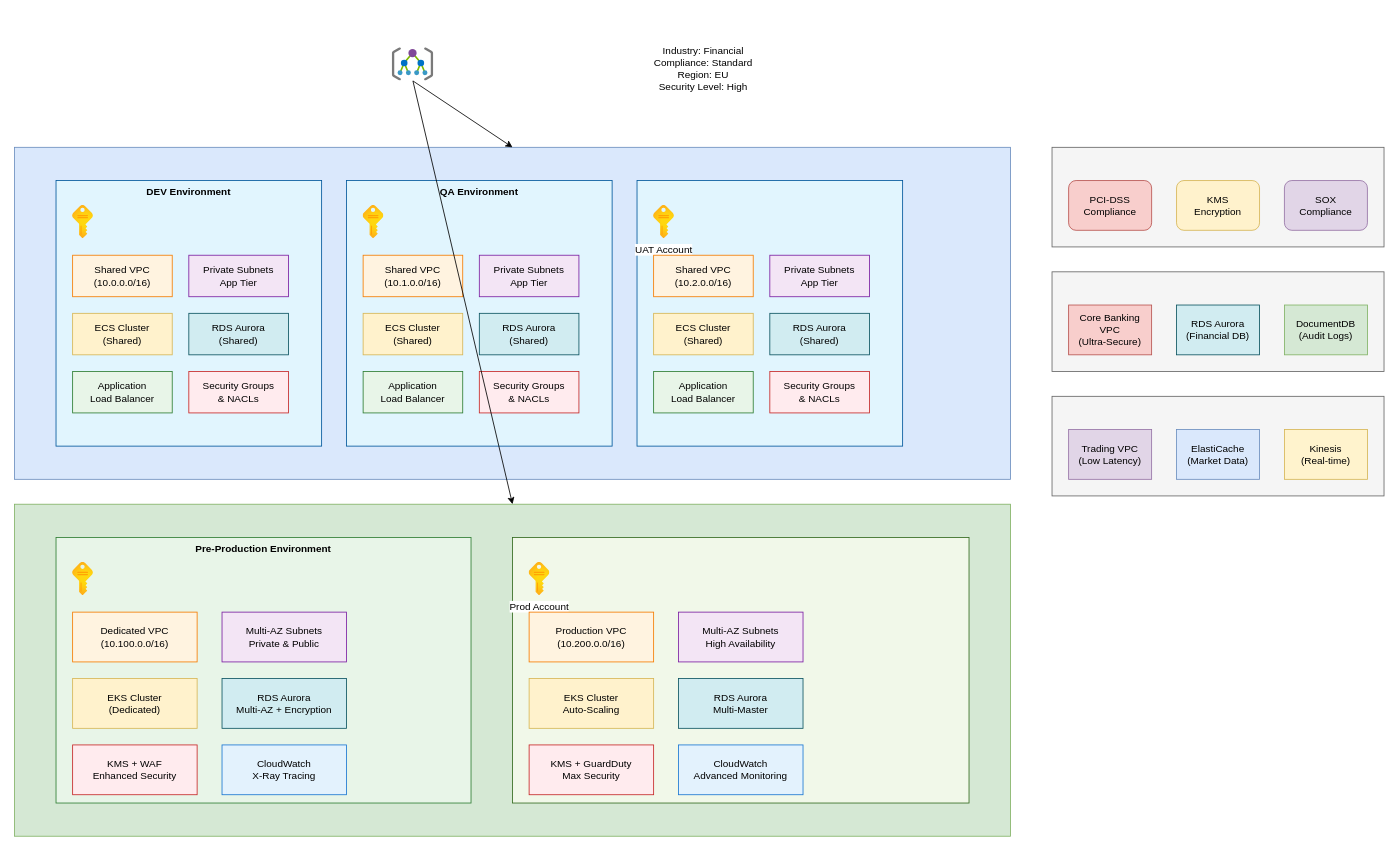
This 1399x851 diagram has some shape labels left out. Each missing label, with the box of its shape:
AWS Control Tower: (392, 47, 433, 81)
Compliance & Security Controls: (1051, 146, 1384, 247)
Core Banking Infrastructure: (1051, 271, 1384, 371)
DEV Account: (72, 205, 93, 238)
Non-Prod OU: (14, 146, 1011, 479)
Pre-Prod Account: (72, 562, 93, 595)
Prod OU: (14, 503, 1011, 836)
Production Environment: (512, 537, 969, 803)
QA Account: (363, 205, 383, 238)
Trading Platform Infrastructure: (1051, 395, 1384, 496)
UAT Environment: (636, 180, 903, 446)
